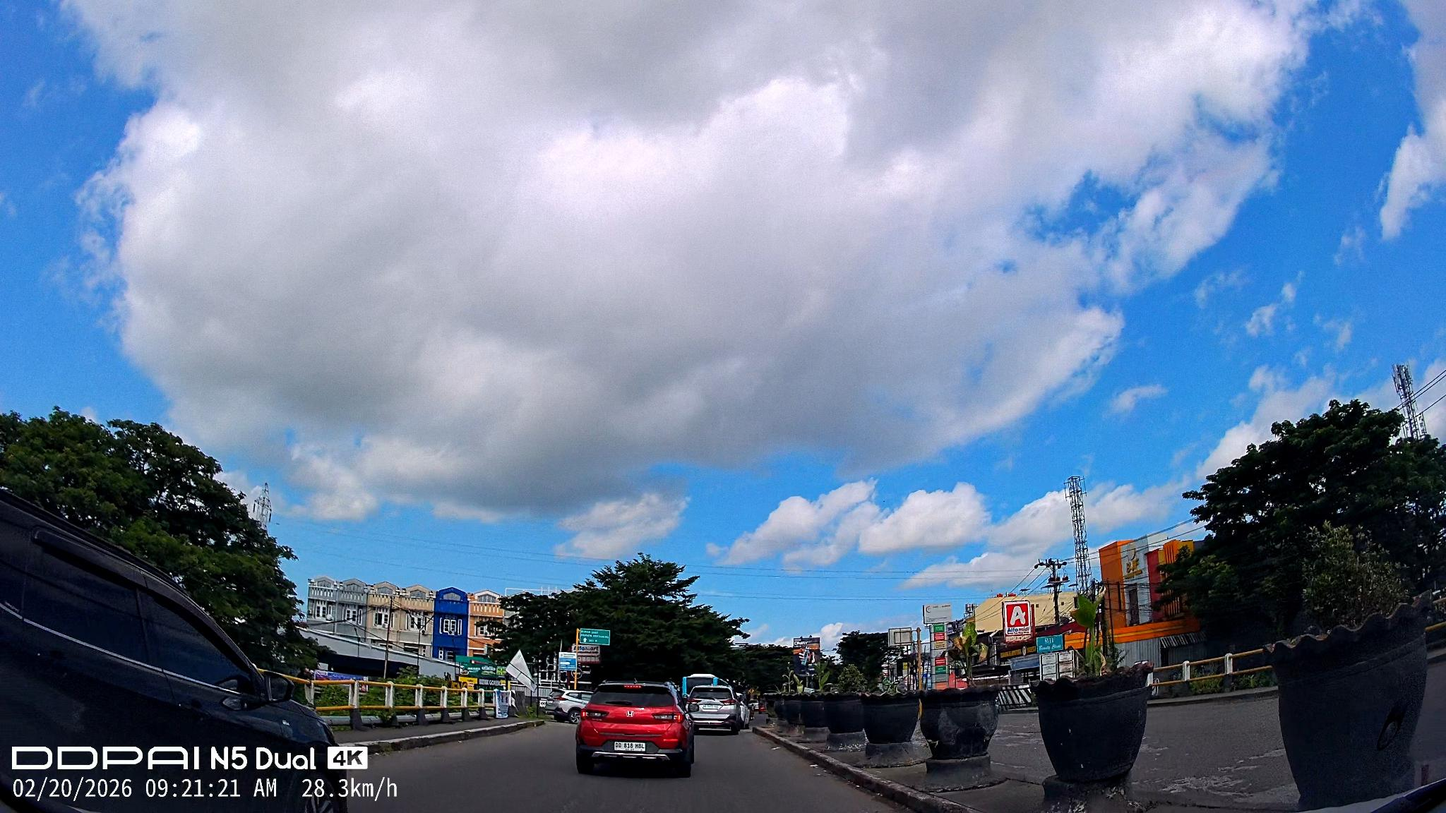rambu_teks: (579, 629, 610, 645)
